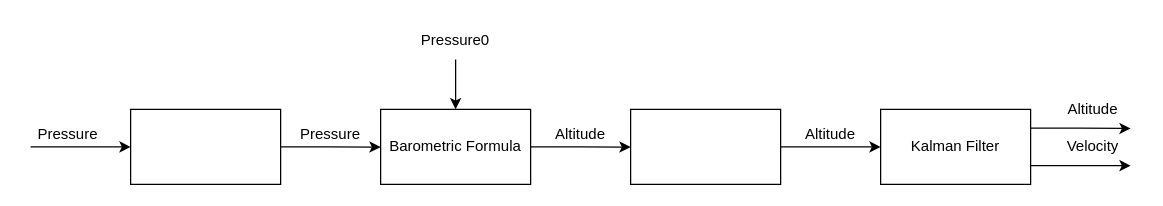
This 1163x206 diagram has some shape labels left out. The shapes that lost their labels are listed below. From the top down, each one's centre as x and y in pixels, then its label:
At pixel 205 146: "Moving Average".
At pixel 705 146: "Rate Limiter".
